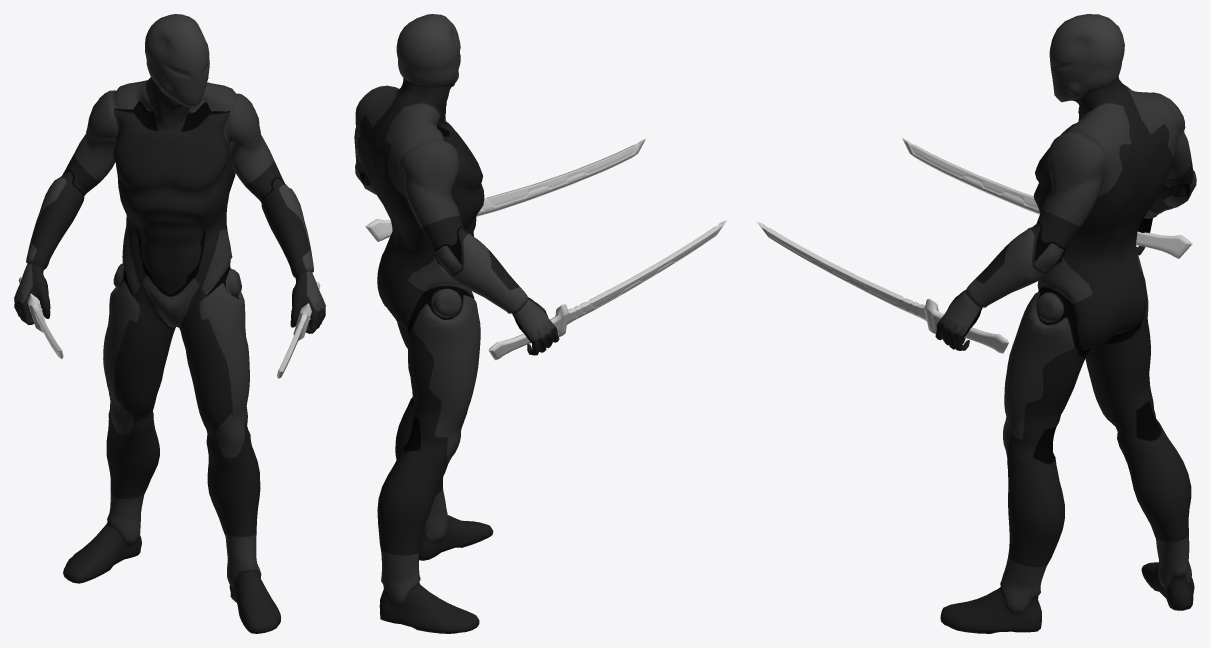
3 views of the same model, side by side, from view 1: azimuth 30°, elevation 25°; view 2: azimuth 150°, elevation 25°; view 3: azimuth 270°, elevation 25° (orthographic). The views are drawn at different scales.
Parts seen in each view (by area): view 1: Cyborg_Ninja_Killer, Sword_l, Sword_l001; view 2: Cyborg_Ninja_Killer, Sword_l001, Sword_l; view 3: Cyborg_Ninja_Killer, Sword_l, Sword_l001.
Part boxes in pixels (box(x1,y1,x2,y2)): Cyborg_Ninja_Killer: box(14, 14, 325, 633); Sword_l: box(277, 282, 320, 378); Sword_l001: box(18, 277, 63, 358); Cyborg_Ninja_Killer: box(354, 14, 559, 633); Sword_l001: box(488, 220, 726, 360); Sword_l: box(365, 139, 645, 241); Cyborg_Ninja_Killer: box(935, 14, 1196, 633); Sword_l: box(756, 221, 1009, 353); Sword_l001: box(902, 138, 1192, 258).
Size of the model in its own units: 104 by 182 by 123.
